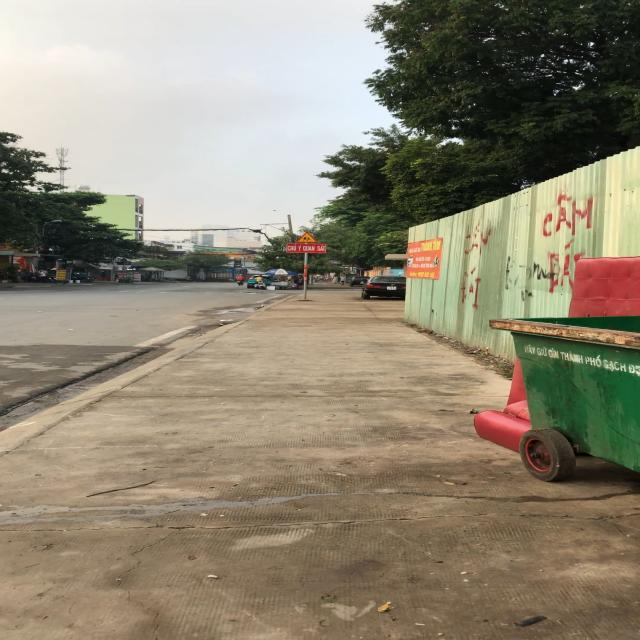Bien bao tre em: (294, 230, 321, 243)
